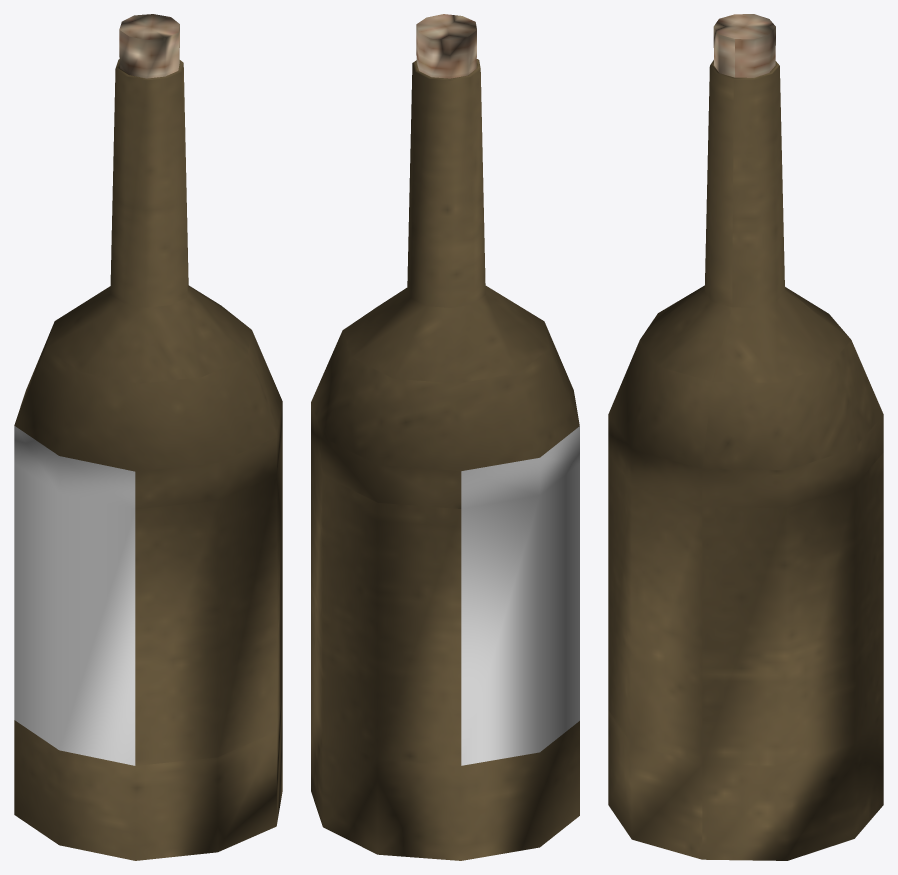
File: MS_Bottle_1b.fbx
3 views of the same model, side by side, from view 1: azimuth 30°, elevation 25°; view 2: azimuth 150°, elevation 25°; view 3: azimuth 270°, elevation 25° (orthographic).
Parts seen in each view (by area): view 1: MSH_Bottle_01; view 2: MSH_Bottle_01; view 3: MSH_Bottle_01.
Part boxes in pixels (<box>): MSH_Bottle_01: <box>14,14,282,860</box>; MSH_Bottle_01: <box>311,14,579,860</box>; MSH_Bottle_01: <box>608,14,883,860</box>.
Bounding box in the file's own units: 7.48 × 24.28 × 7.78.
